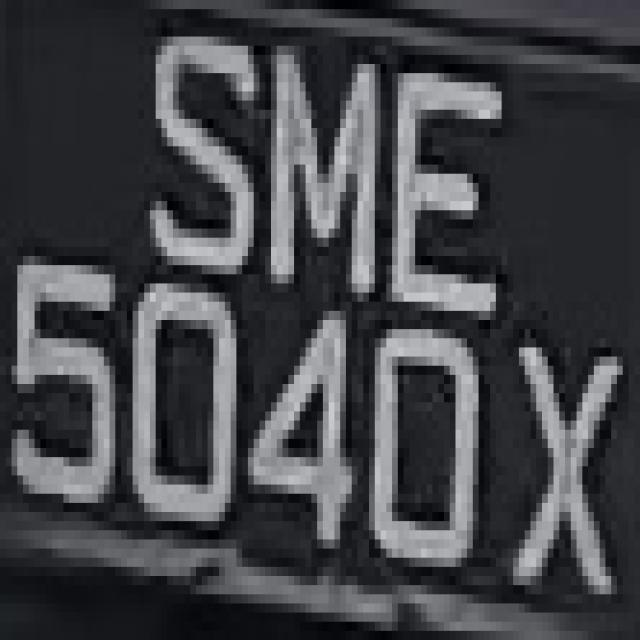0: (115, 265, 248, 540), (363, 302, 473, 585)
4: (248, 274, 363, 567)
5: (11, 201, 127, 549)
E: (392, 37, 496, 329)
M: (260, 28, 380, 348)
S: (138, 28, 254, 284)
X: (513, 292, 623, 631)
